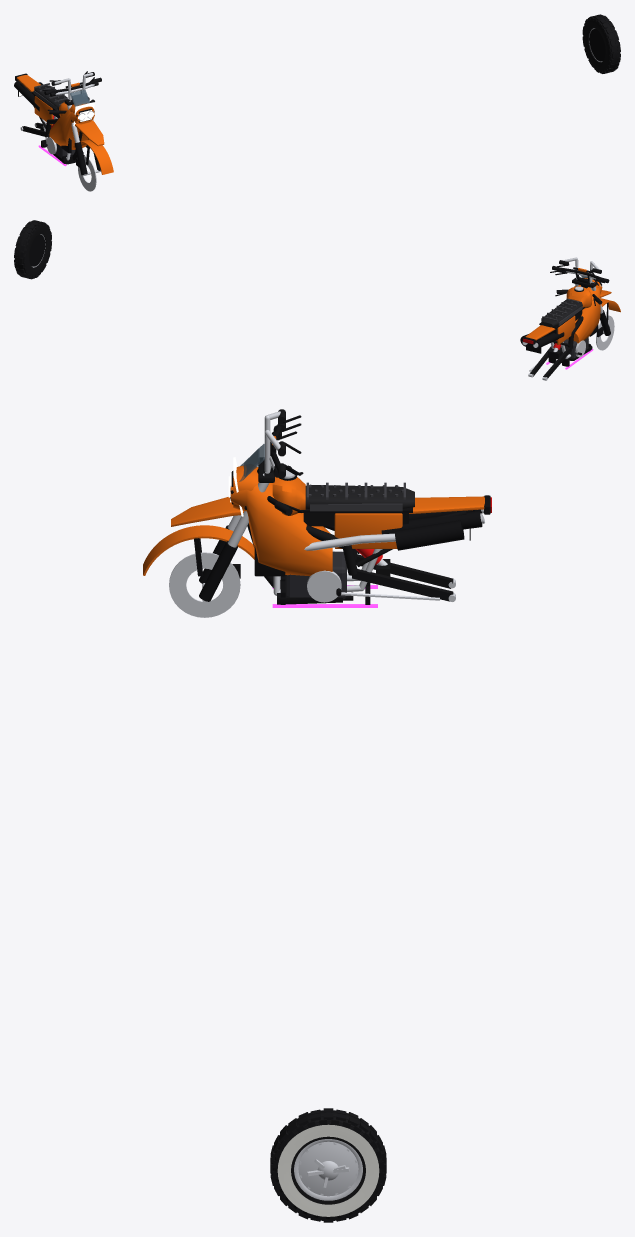
The model's file is DirtBike.glb.
3 renders of one model, top to bottom at view 1: azimuth 30°, elevation 25°; view 2: azimuth 150°, elevation 25°; view 3: azimuth 270°, elevation 25°, orthographic. The views are drawn at different scales.
Visible parts, largest first — view 1: DirtBikeWheel_TireOffroadRubber, DirtBike_OptFairingRaceBody, DirtBike_Chrome, DirtBike_Body, DirtBike_Frame, DirtBike_OptFenderLowBody, DirtBikeWheel_TireBalloonRubber, DirtBike_Dark, DirtBike_OptFenderHighBody, DirtBikeWheel_RimDiscDark; view 2: DirtBikeWheel_TireOffroadRubber, DirtBike_Frame, DirtBike_OptFairingRaceBody, DirtBike_Body, DirtBike_Chrome, DirtBikeWheel_TireBalloonRubber, DirtBike_OptSeatsDiamondSeat, DirtBike_Dark, DirtBikeWheel_RimDiscDark, DirtBike_OptExhaustDualDark; view 3: DirtBike_OptFairingRaceBody, DirtBike_Chrome, DirtBikeWheel_TireOffroadRubber, DirtBike_Frame, DirtBike_Body, DirtBikeWheel_RimDiscSpokes, DirtBike_OptSeatsDiamondSeat, DirtBikeWheel_BandBalloonDoubleBand, DirtBike_Dark, DirtBike_OptFenderLowBody, DirtBikeWheel_BandBalloonWideBand, DirtBike_OptExhaustSideDark (+2 smaller).
Boxes of the visible parts, x1,y1,x2,y2 form: DirtBikeWheel_TireOffroadRubber: [582, 14, 620, 73]; DirtBike_OptFairingRaceBody: [49, 108, 94, 149]; DirtBike_Chrome: [20, 101, 100, 191]; DirtBike_Body: [16, 75, 72, 125]; DirtBike_Frame: [20, 83, 89, 160]; DirtBike_OptFenderLowBody: [73, 139, 113, 174]; DirtBikeWheel_TireBalloonRubber: [583, 15, 619, 72]; DirtBike_Dark: [18, 91, 100, 175]; DirtBike_OptFenderHighBody: [75, 120, 104, 146]; DirtBikeWheel_RimDiscDark: [589, 29, 605, 61]; DirtBikeWheel_TireOffroadRubber: [14, 220, 51, 279]; DirtBike_Frame: [530, 278, 596, 378]; DirtBike_OptFairingRaceBody: [567, 285, 602, 343]; DirtBike_Body: [525, 293, 583, 344]; DirtBike_Chrome: [528, 282, 614, 380]; DirtBikeWheel_TireBalloonRubber: [15, 221, 51, 277]; DirtBike_OptSeatsDiamondSeat: [542, 300, 582, 327]; DirtBike_Dark: [526, 277, 610, 355]; DirtBikeWheel_RimDiscDark: [29, 234, 45, 266]; DirtBike_OptExhaustDualDark: [522, 332, 564, 349]; DirtBike_OptFairingRaceBody: [230, 478, 332, 576]; DirtBike_Chrome: [169, 473, 455, 617]; DirtBikeWheel_TireOffroadRubber: [270, 1108, 386, 1222]; DirtBike_Frame: [244, 458, 466, 601]; DirtBike_Body: [296, 477, 484, 548]; DirtBikeWheel_RimDiscSpokes: [298, 1141, 358, 1196]; DirtBike_OptSeatsDiamondSeat: [305, 484, 414, 509]; DirtBikeWheel_BandBalloonDoubleBand: [280, 1127, 376, 1214]; DirtBike_Dark: [199, 460, 474, 601]; DirtBike_OptFenderLowBody: [143, 525, 254, 575]; DirtBikeWheel_BandBalloonWideBand: [277, 1124, 379, 1216]; DirtBike_OptExhaustSideDark: [394, 520, 464, 550].
Size of the model in its own units: 31.95 by 7.29 by 8.45.
